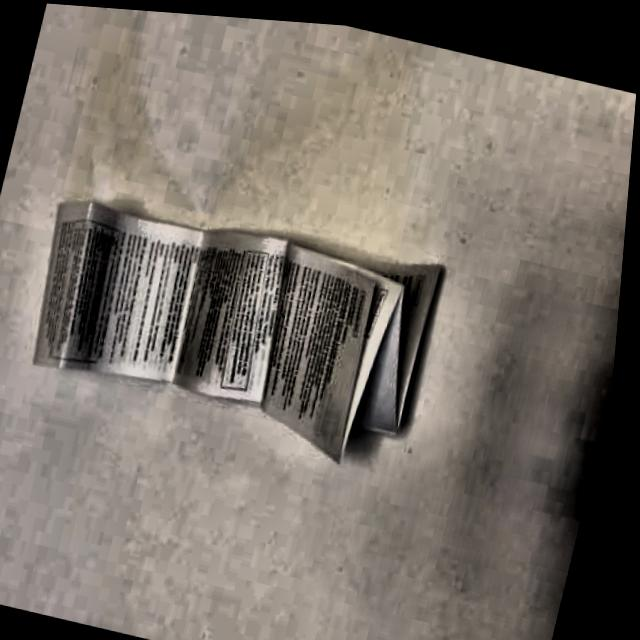Paper: (11, 168, 472, 484)
